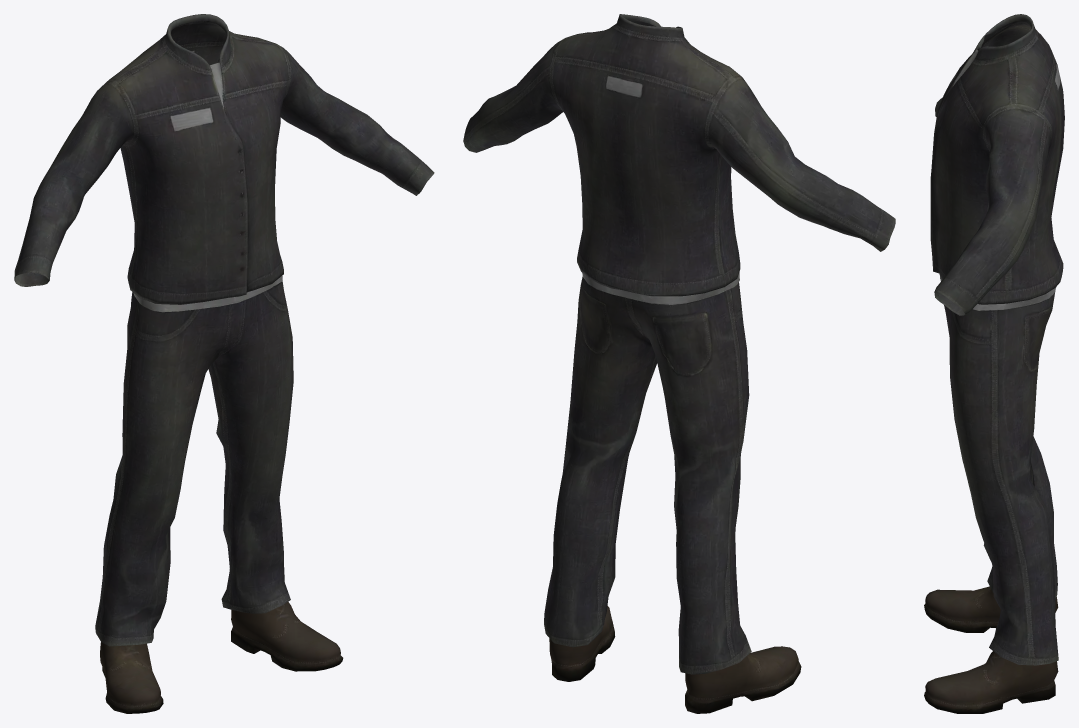
Rendered from citizen-clothes.glb.
The picture shows the model from 3 angles, left to right: view 1: azimuth 30°, elevation 25°; view 2: azimuth 150°, elevation 25°; view 3: azimuth 270°, elevation 25°; orthographic projection. The views are drawn at different scales.
Parts seen in each view (by area): view 1: Civworkclothes_CIV_0; view 2: Civworkclothes_CIV_0; view 3: Civworkclothes_CIV_0.
Boxes of the visible parts, bbox=[...] form: Civworkclothes_CIV_0: bbox=[14, 14, 434, 713]; Civworkclothes_CIV_0: bbox=[463, 14, 895, 713]; Civworkclothes_CIV_0: bbox=[924, 14, 1064, 713].
Size of the model in its own units: 193 by 287 by 57.44.
Materials: 1 (1 with a texture image).
